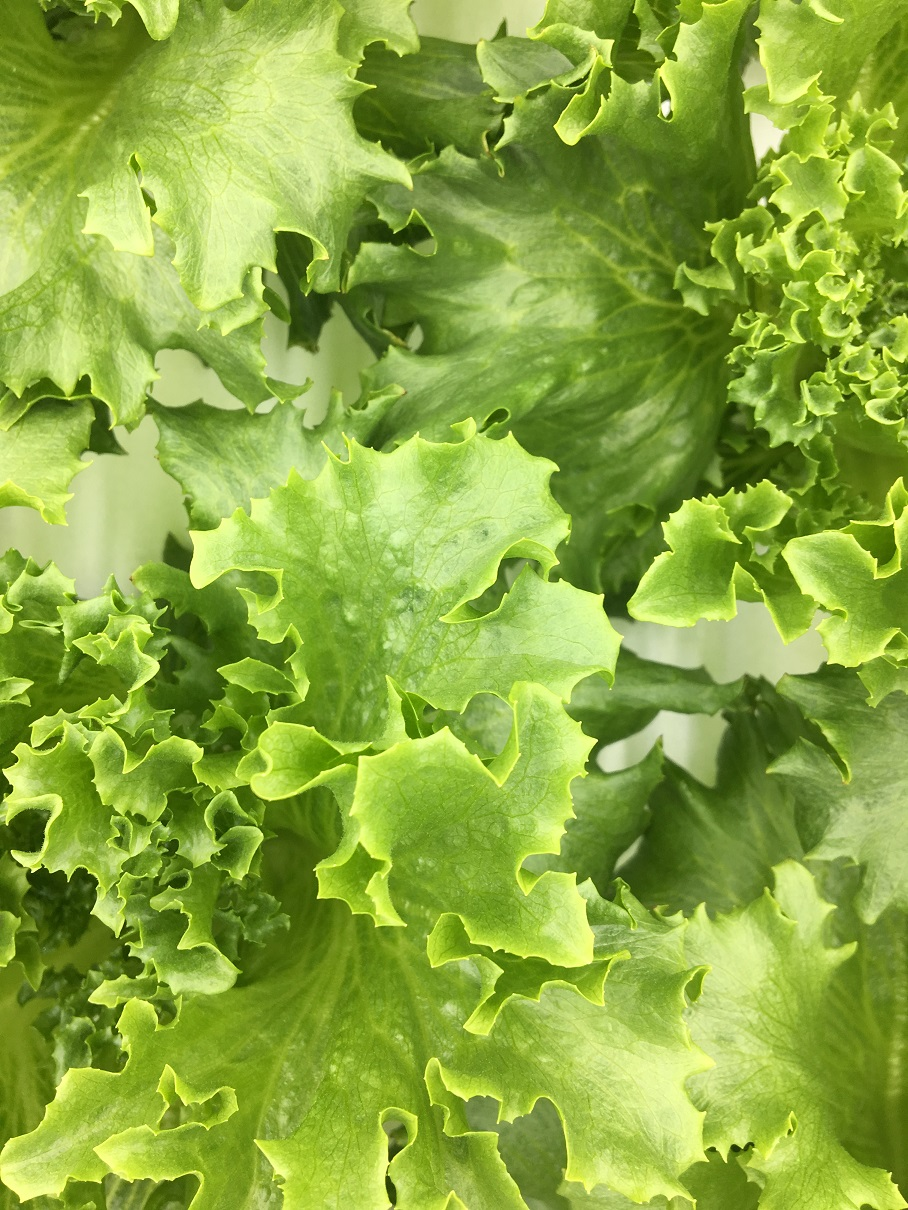tipburn: (113, 559, 150, 598), (393, 373, 420, 402), (478, 141, 501, 169), (583, 38, 602, 58)
